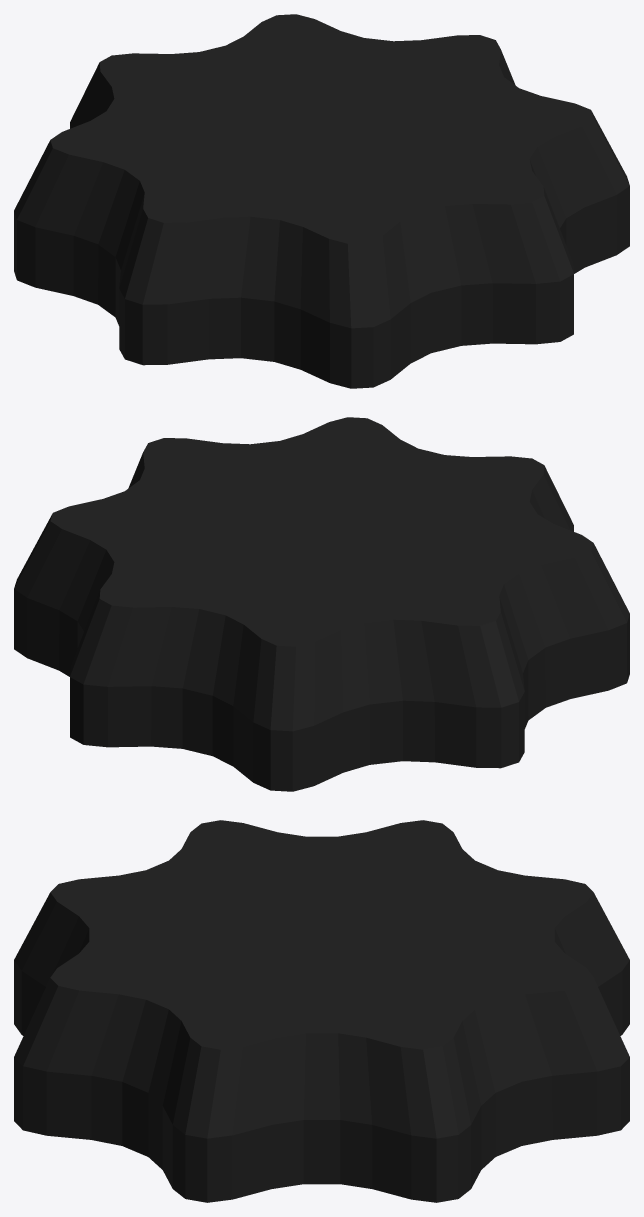
The model's file is OlieDop.fbx.
3 views of the same model, one above another, from view 1: azimuth 30°, elevation 25°; view 2: azimuth 150°, elevation 25°; view 3: azimuth 270°, elevation 25° (orthographic). The views are drawn at different scales.
Visible parts, largest first — view 1: OlieDop; view 2: OlieDop; view 3: OlieDop.
Boxes of the visible parts, <box> form: OlieDop: <box>14,14,629,388</box>; OlieDop: <box>14,417,629,791</box>; OlieDop: <box>14,820,629,1202</box>.
Size of the model in its own units: 8.24 by 2.03 by 8.24.
